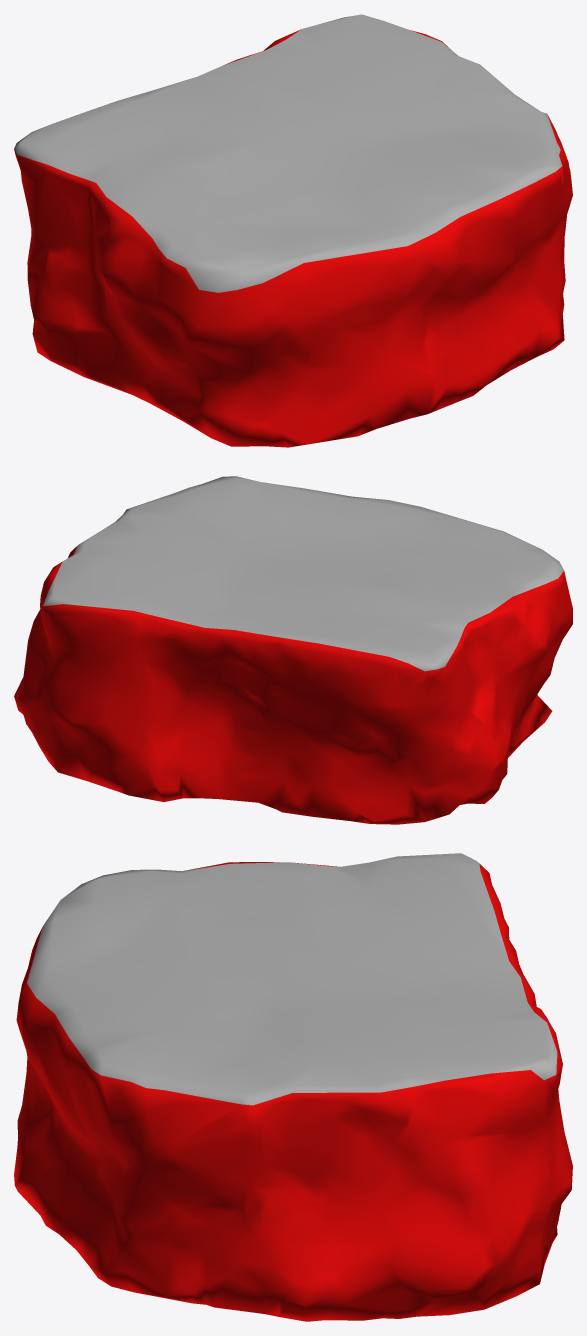
The model's file is Cliff_1_Beach_Low.fbx.
3 views of the same model, one above another, from view 1: azimuth 30°, elevation 25°; view 2: azimuth 150°, elevation 25°; view 3: azimuth 270°, elevation 25° (orthographic). The views are drawn at different scales.
Parts seen in each view (by area): view 1: Cliff_1_Beach_Low; view 2: Cliff_1_Beach_Low; view 3: Cliff_1_Beach_Low.
Boxes of the visible parts, x1,y1,x2,y2 form: Cliff_1_Beach_Low: (14, 14, 572, 447); Cliff_1_Beach_Low: (14, 476, 572, 824); Cliff_1_Beach_Low: (14, 853, 572, 1321).
Size of the model in its own units: 2247 by 851 by 1867.
